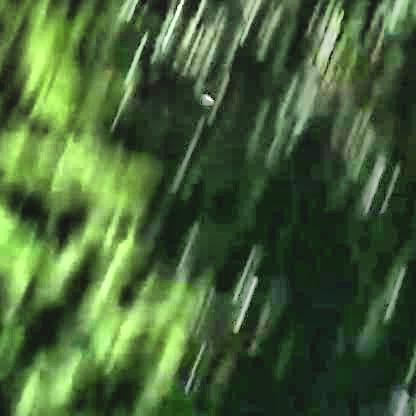golfball: (201, 86, 212, 104)
